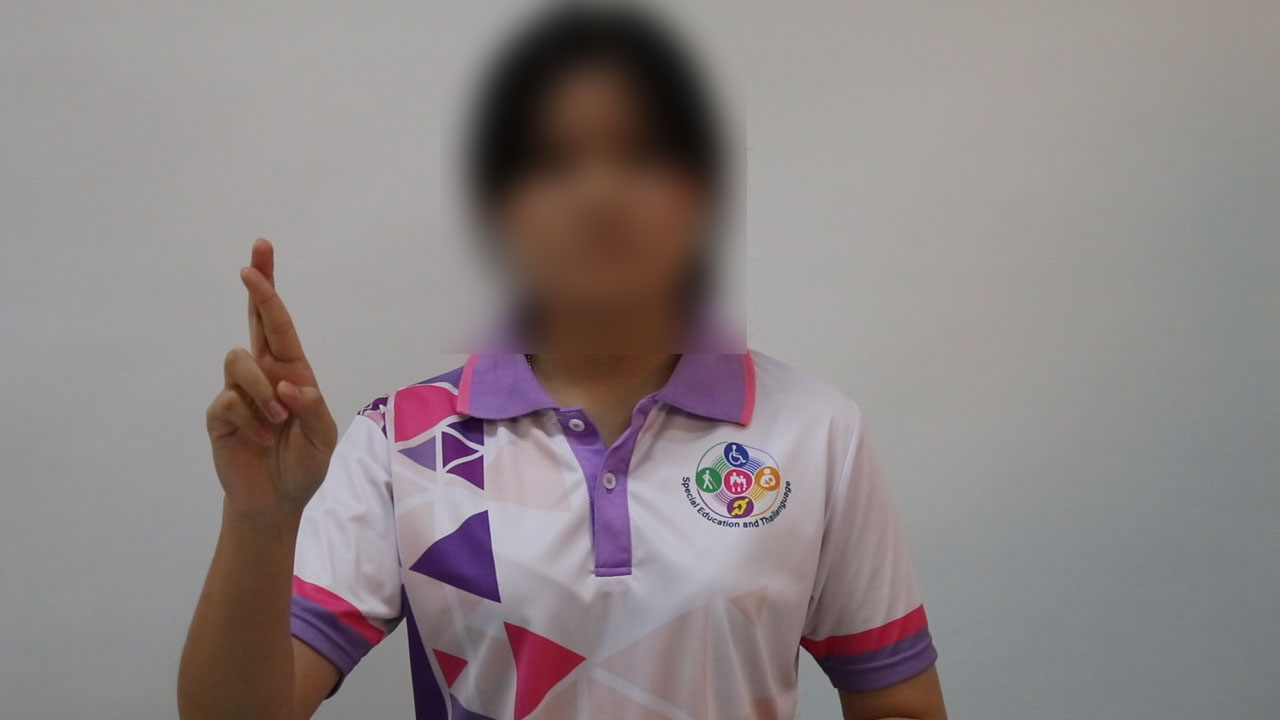rao: (186, 233, 344, 521)
